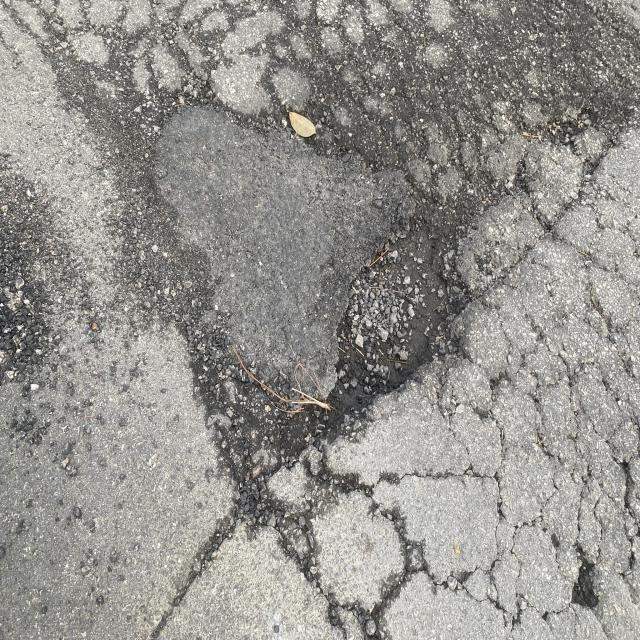Pothole: (105, 42, 481, 505)
